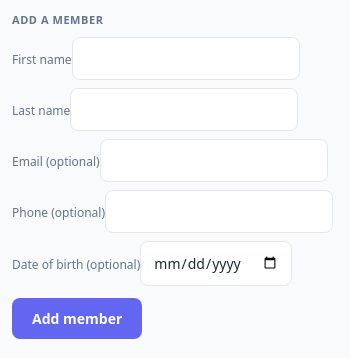
AddMemberForm › blocks submit when both an email and a phone are entered
Type "Jo" into the field labelled "First name".
click(186, 58); type("Jo")  # box 72,36 -> 300,80
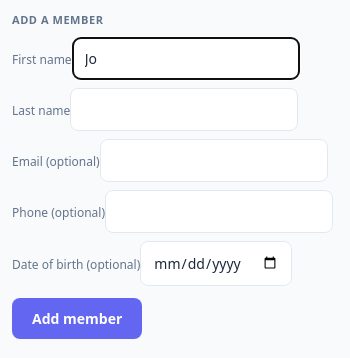
Type "Doe" into the field labelled "Last name".
click(184, 109); type("Doe")  # box 70,88 -> 298,130
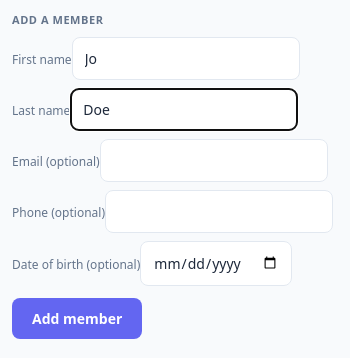
Type "a@b.com" into the field labelled "Email (optional)".
click(214, 160); type("a@b.com")  # box 100,138 -> 328,182
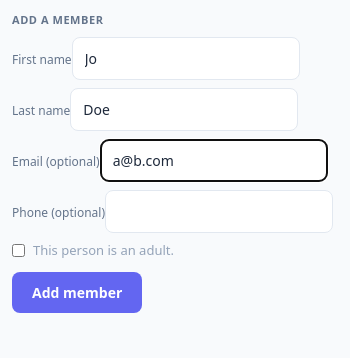
Type "+15555550123" into the field labelled "Phone (optional)".
click(219, 211); type("+15555550123")  # box 105,190 -> 333,232
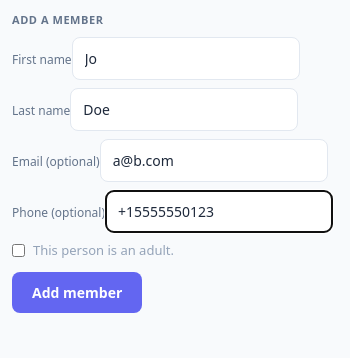
Click the button "Add member".
click(77, 292)  # box 12,272 -> 142,313
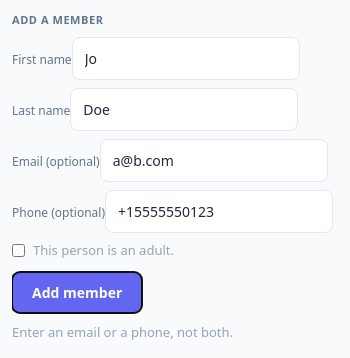
expect the text "Enter an email or a phone, not both." is shown: met, box 12,323 -> 233,341
